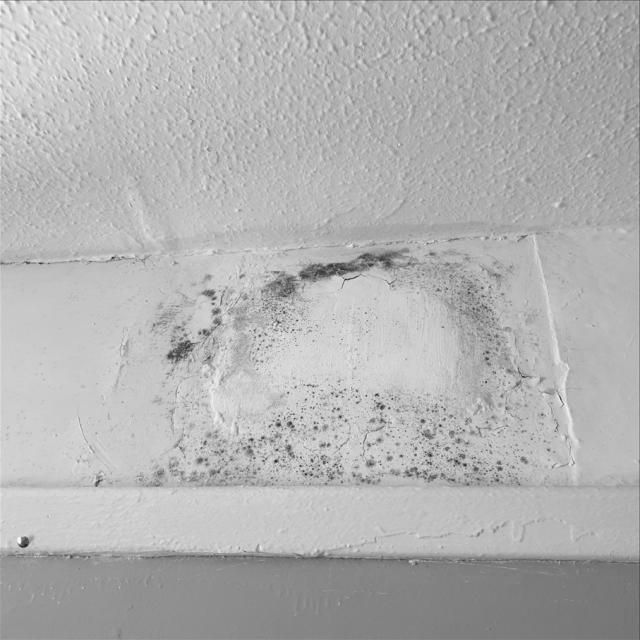rough and patchy surface: (0, 0, 639, 247)
stain marks: (113, 239, 572, 490)
